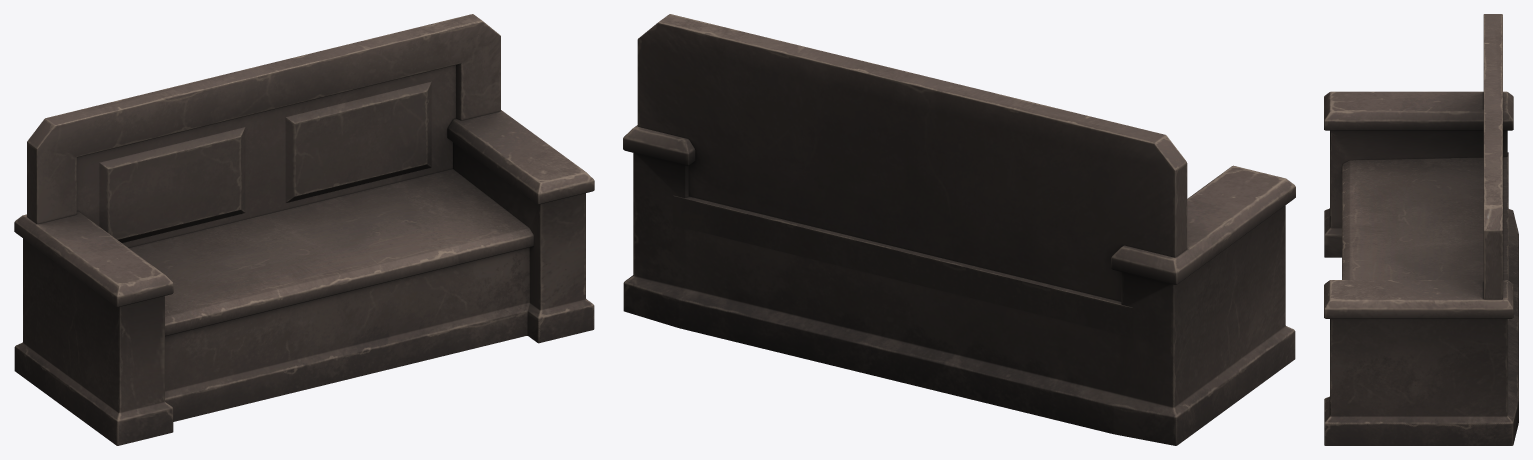
The model's file is bench.fbx.
3 renders of one model, left to right at view 1: azimuth 30°, elevation 25°; view 2: azimuth 150°, elevation 25°; view 3: azimuth 270°, elevation 25°, orthographic. The views are drawn at different scales.
Visible parts, largest first — view 1: Bench; view 2: Bench; view 3: Bench.
Part boxes in pixels (left/top/right/bottom): Bench: left=14, top=14, right=594, bottom=445; Bench: left=623, top=14, right=1295, bottom=445; Bench: left=1324, top=14, right=1518, bottom=445.
Bounding box in the file's own units: 19.75 × 9.91 × 7.61.
Materials: 1 (1 with a texture image).
